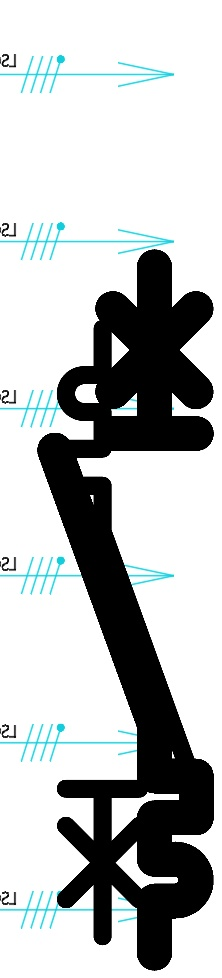interruptor_termomagnetico: (37, 249, 214, 971), (50, 313, 206, 952)
